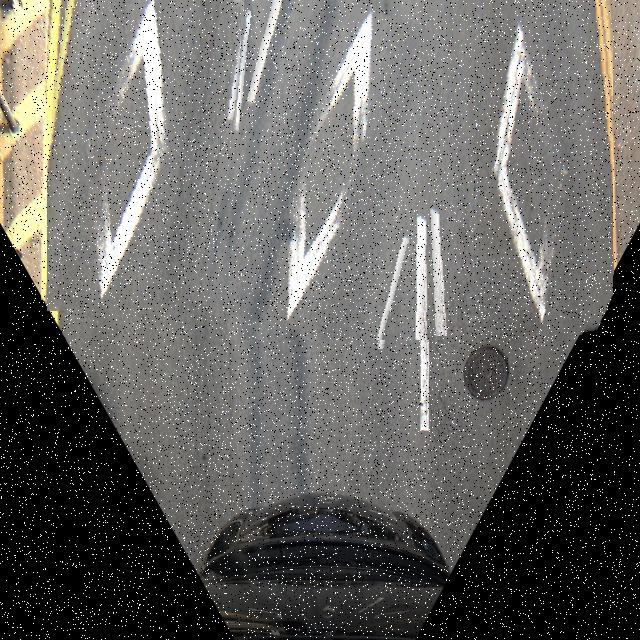diamond: (215, 0, 444, 340), (421, 0, 613, 336), (47, 0, 244, 312)
